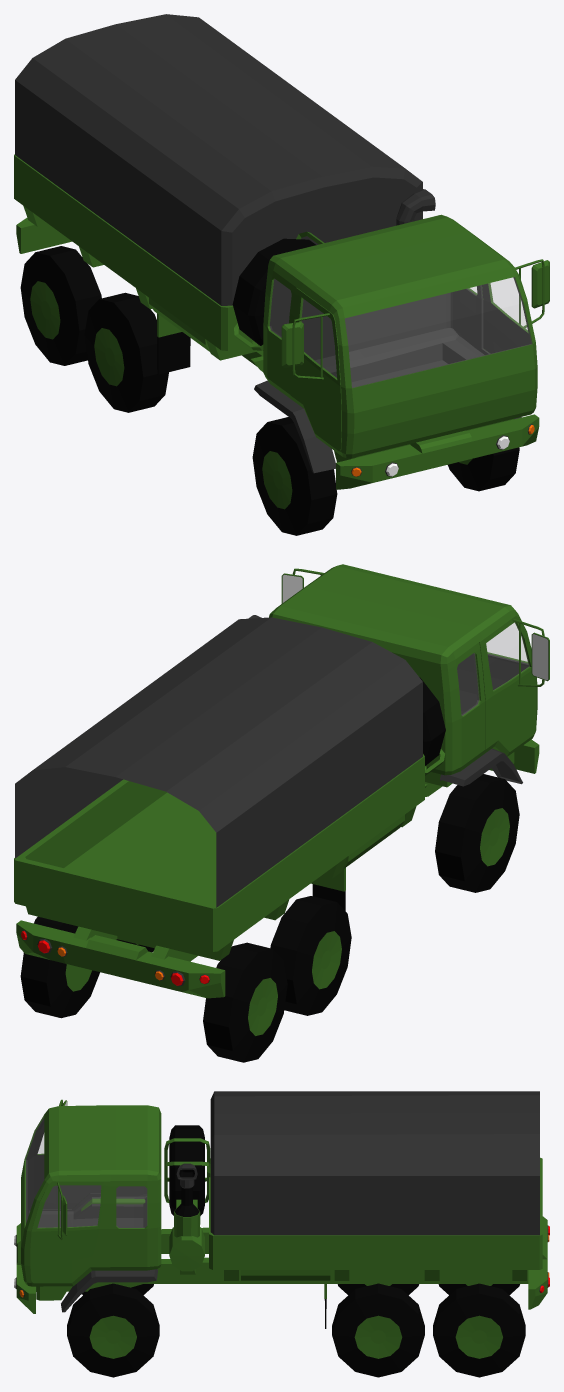
3 renders of one model, top to bottom at view 1: azimuth 30°, elevation 25°; view 2: azimuth 150°, elevation 25°; view 3: azimuth 270°, elevation 25°, orthographic. The views are drawn at different scales.
Visible parts, largest first — view 1: Plane.022, Plane.025, Plane.024, Cylinder.018, Cylinder.022, Cylinder.020, Plane.023, Plane.021, Plane.027, Cylinder.023; view 2: Plane.022, Cylinder.020, Plane.026, Cylinder.022, Cylinder.018, Plane.023, Cylinder.019, Plane.024, Plane.025, Plane.021, Plane.027; view 3: Plane.022, Plane.027, Cylinder.021, Cylinder.023, Cylinder.019, Plane.021, Plane.024, Plane.025, Plane.023, Cylinder.018, Cylinder.022.
Boxes of the visible parts, x1=… form: Plane.022: x1=14, y1=14, x2=539, y2=489; Plane.025: x1=269, y1=277, x2=531, y2=387; Plane.024: x1=270, y1=277, x2=531, y2=387; Cylinder.018: x1=84, y1=292, x2=168, y2=412; Cylinder.022: x1=20, y1=246, x2=101, y2=365; Cylinder.020: x1=252, y1=417, x2=337, y2=535; Plane.023: x1=281, y1=288, x2=341, y2=451; Plane.021: x1=232, y1=189, x2=435, y2=371; Plane.027: x1=482, y1=259, x2=549, y2=353; Cylinder.023: x1=448, y1=447, x2=519, y2=491; Plane.022: x1=14, y1=564, x2=539, y2=998; Cylinder.020: x1=435, y1=774, x2=519, y2=892; Plane.026: x1=34, y1=862, x2=197, y2=947; Cylinder.022: x1=203, y1=942, x2=287, y2=1062; Cylinder.018: x1=270, y1=896, x2=351, y2=1015; Plane.023: x1=479, y1=616, x2=549, y2=751; Cylinder.019: x1=20, y1=916, x2=99, y2=1018; Plane.024: x1=457, y1=653, x2=528, y2=715; Plane.025: x1=457, y1=623, x2=526, y2=715; Plane.021: x1=248, y1=615, x2=445, y2=787; Plane.027: x1=281, y1=568, x2=324, y2=603; Plane.022: x1=14, y1=1091, x2=549, y2=1328; Plane.027: x1=30, y1=1181, x2=110, y2=1283; Cylinder.021: x1=332, y1=1283, x2=424, y2=1377; Cylinder.023: x1=67, y1=1283, x2=159, y2=1377; Cylinder.019: x1=433, y1=1283, x2=525, y2=1377; Plane.021: x1=164, y1=1125, x2=210, y2=1274; Plane.024: x1=26, y1=1118, x2=147, y2=1227; Plane.025: x1=25, y1=1116, x2=146, y2=1227; Plane.023: x1=30, y1=1099, x2=101, y2=1209; Cylinder.018: x1=337, y1=1284, x2=419, y2=1295; Cylinder.022: x1=438, y1=1284, x2=519, y2=1295.
Size of the model in its own units: 304 by 309 by 669.
